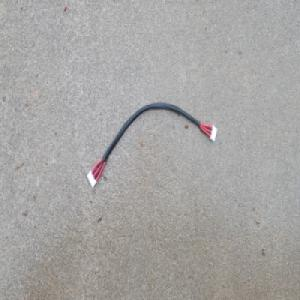Wire: (85, 100, 218, 191)
